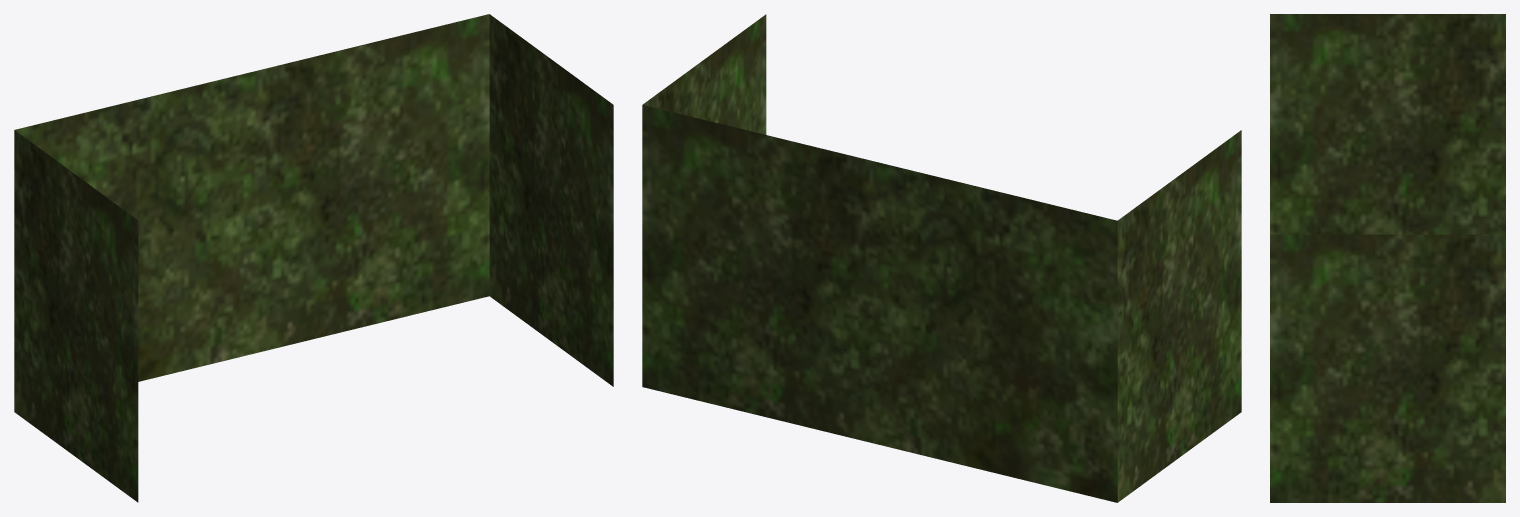
Rendered from OVERHILL_A_01_OBJECT120.fbx.
The picture shows the model from 3 angles, left to right: view 1: azimuth 30°, elevation 25°; view 2: azimuth 150°, elevation 25°; view 3: azimuth 270°, elevation 25°; orthographic projection. The views are drawn at different scales.
Visible parts, largest first — view 1: OVERHILL_A_01_OBJECT120; view 2: OVERHILL_A_01_OBJECT120; view 3: OVERHILL_A_01_OBJECT120.
Part boxes in pixels (x1,y1,x2,y2): OVERHILL_A_01_OBJECT120: (14,14,613,502); OVERHILL_A_01_OBJECT120: (642,14,1241,502); OVERHILL_A_01_OBJECT120: (1270,14,1505,502).
Size of the model in its own units: 31223 by 17726 by 14121.
Materials: 1 (1 with a texture image).
